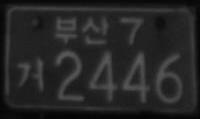2: (55, 49, 85, 101)
4: (88, 50, 119, 101), (122, 51, 151, 103)
6: (154, 52, 184, 104)
7: (120, 16, 145, 45)
거: (16, 56, 43, 90)
부산_O: (54, 16, 110, 45)
